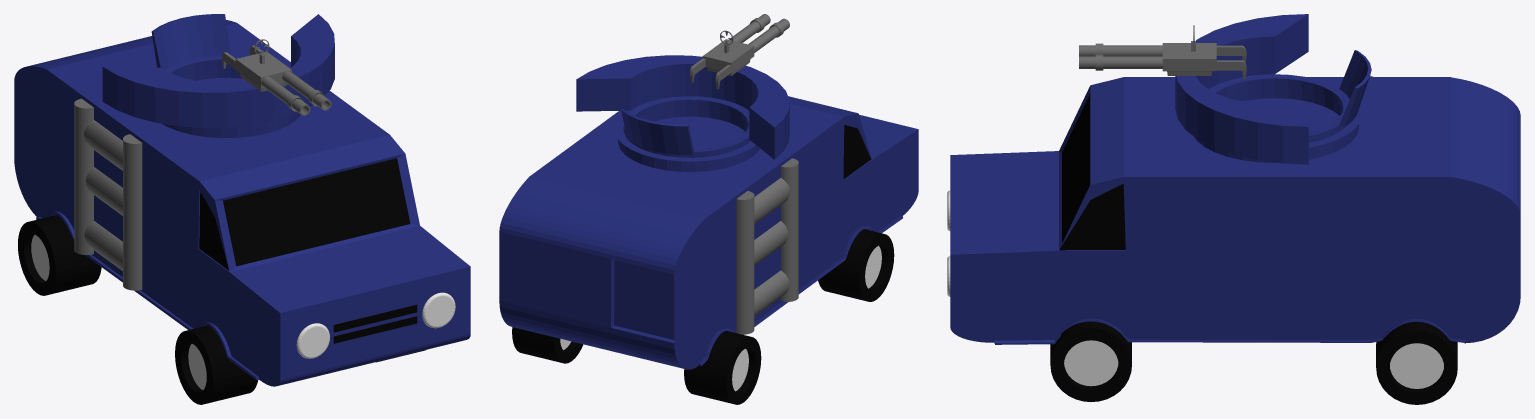
File: Gun_Car2.fbx
3 renders of one model, left to right at view 1: azimuth 30°, elevation 25°; view 2: azimuth 150°, elevation 25°; view 3: azimuth 270°, elevation 25°, orthographic. The views are drawn at different scales.
Visible parts, largest first — view 1: Cube, Circle.006, Circle.001; view 2: Cube, Circle.006, Circle.001; view 3: Cube, Circle.006, Circle.001.
Part boxes in pixels (bbox=[...]): Cube: bbox=[14, 20, 470, 404]; Circle.006: bbox=[102, 14, 334, 138]; Circle.001: bbox=[221, 39, 331, 115]; Cube: bbox=[499, 96, 918, 404]; Circle.006: bbox=[576, 55, 789, 171]; Circle.001: bbox=[690, 14, 789, 89]; Cube: bbox=[947, 75, 1520, 404]; Circle.006: bbox=[1175, 14, 1371, 164]; Circle.001: bbox=[1079, 25, 1246, 79].
Size of the model in its own units: 244 by 300 by 486.
